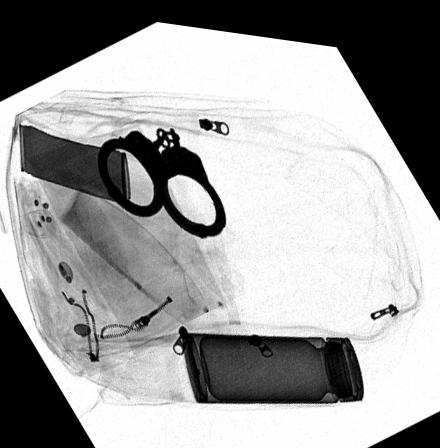HandCuffs: (95, 121, 225, 231)
